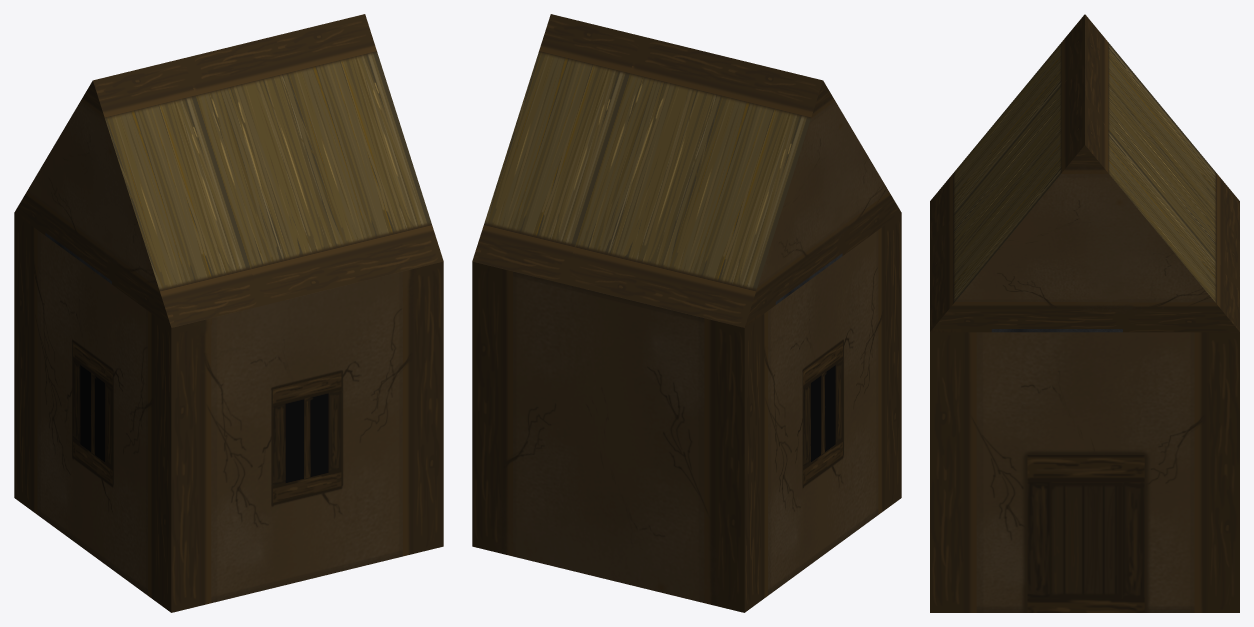
File: dom_dachx1.FBX
The picture shows the model from 3 angles, left to right: view 1: azimuth 30°, elevation 25°; view 2: azimuth 150°, elevation 25°; view 3: azimuth 270°, elevation 25°; orthographic projection.
Parts seen in each view (by area): view 1: Box008; view 2: Box008; view 3: Box008.
Part boxes in pixels (x1,y1,x2,y2): Box008: (14, 14, 443, 612); Box008: (472, 14, 901, 612); Box008: (930, 14, 1239, 612).
Bounding box in the file's own units: 6 × 10 × 6.
Materials: 1 (1 with a texture image).
